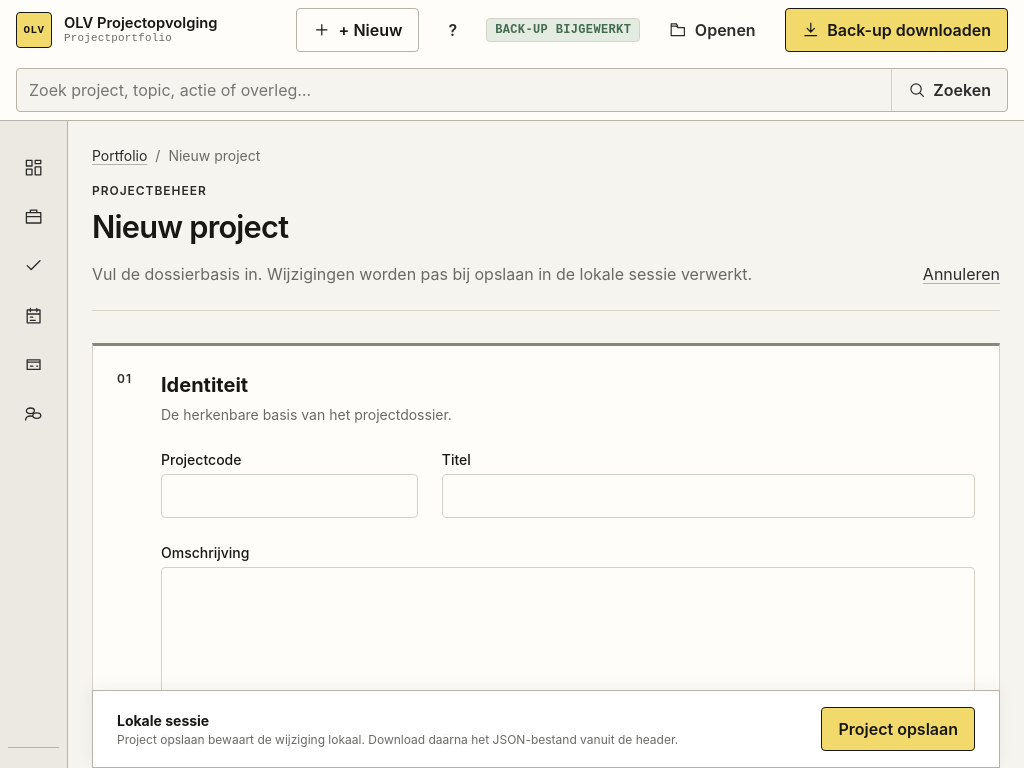
Test case: projectformulier met inline beheer › toont rustige veldfouten en muteert niets bij ongeldige invoer
Step 1. Click the button "Project opslaan" → (898, 729), box [821,707,975,751]
(page scrolled)
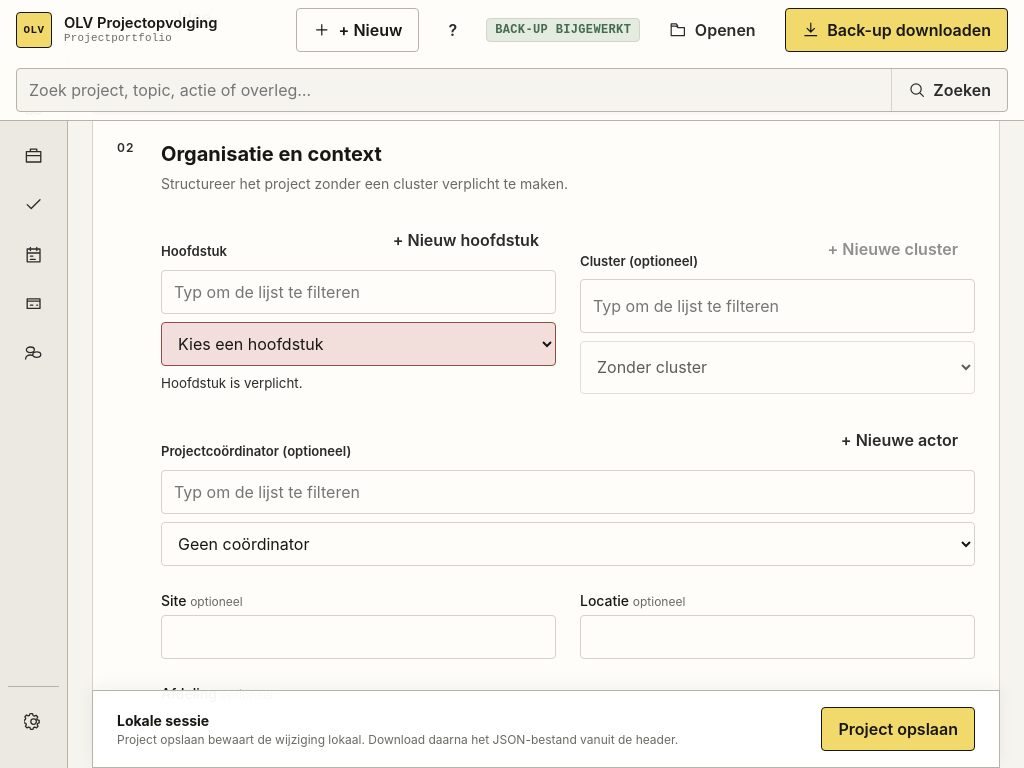
Now the text "Hoofdstuk is verplicht." is shown, box [161,375,302,391]
